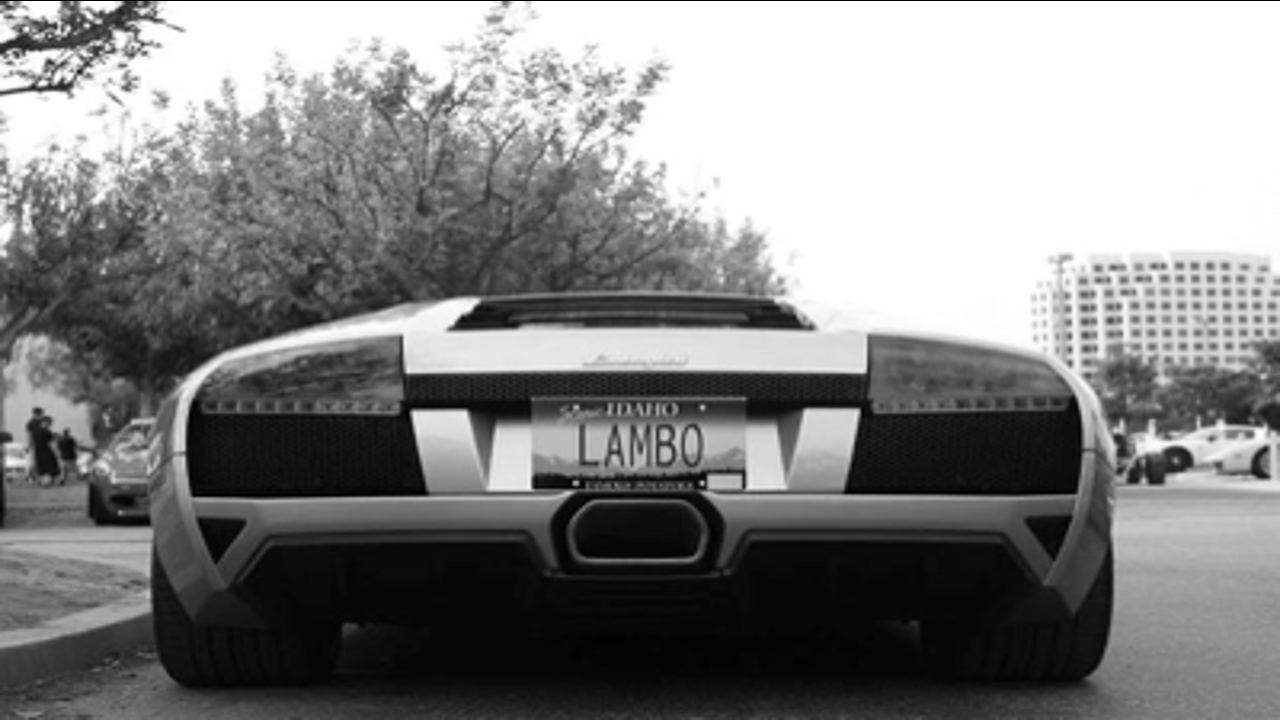license: (521, 389, 753, 499)
